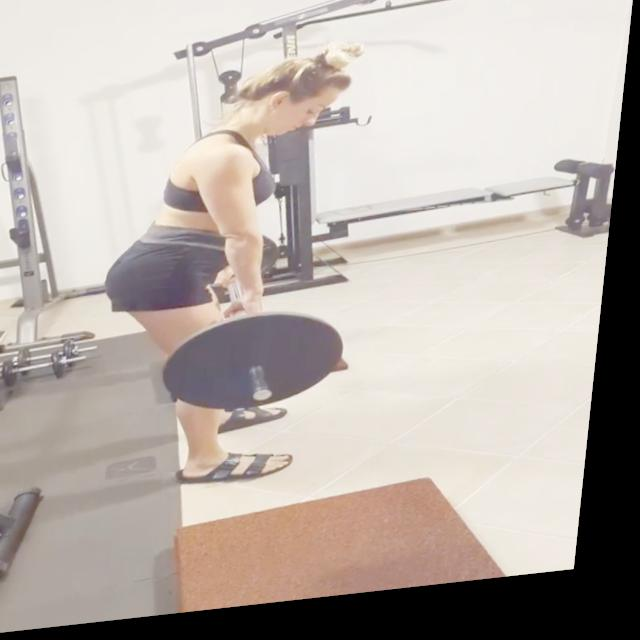barbell: (163, 308, 362, 428)
